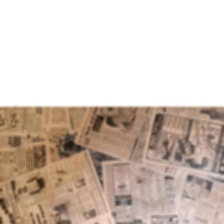news_paper: (0, 147, 115, 224), (73, 105, 184, 179), (140, 104, 224, 178), (97, 156, 177, 224), (0, 133, 54, 188), (174, 165, 223, 224), (0, 106, 68, 139), (63, 105, 98, 138)
